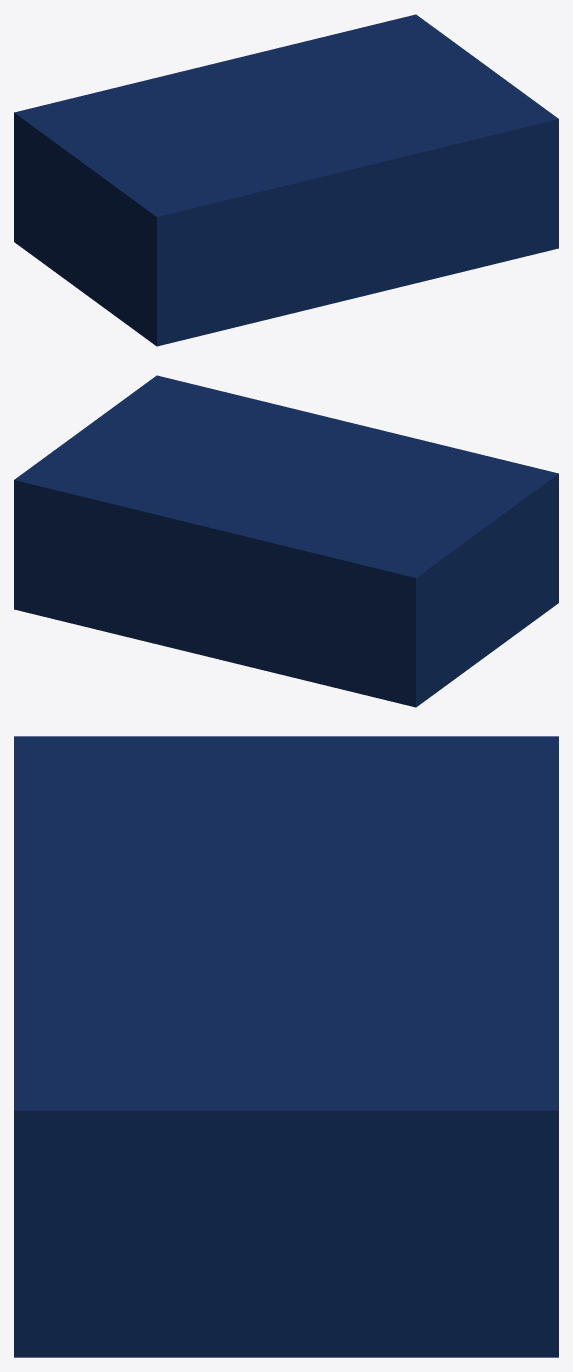
The picture shows the model from 3 angles, top to bottom: view 1: azimuth 30°, elevation 25°; view 2: azimuth 150°, elevation 25°; view 3: azimuth 270°, elevation 25°; orthographic projection. The views are drawn at different scales.
Parts seen in each view (by area): view 1: enclosure; view 2: enclosure; view 3: enclosure.
Boxes of the visible parts, <box> form: enclosure: <box>14,14,558,346</box>; enclosure: <box>14,375,558,707</box>; enclosure: <box>14,736,558,1357</box>.
Size of the model in its own units: 130 by 40 by 80.
